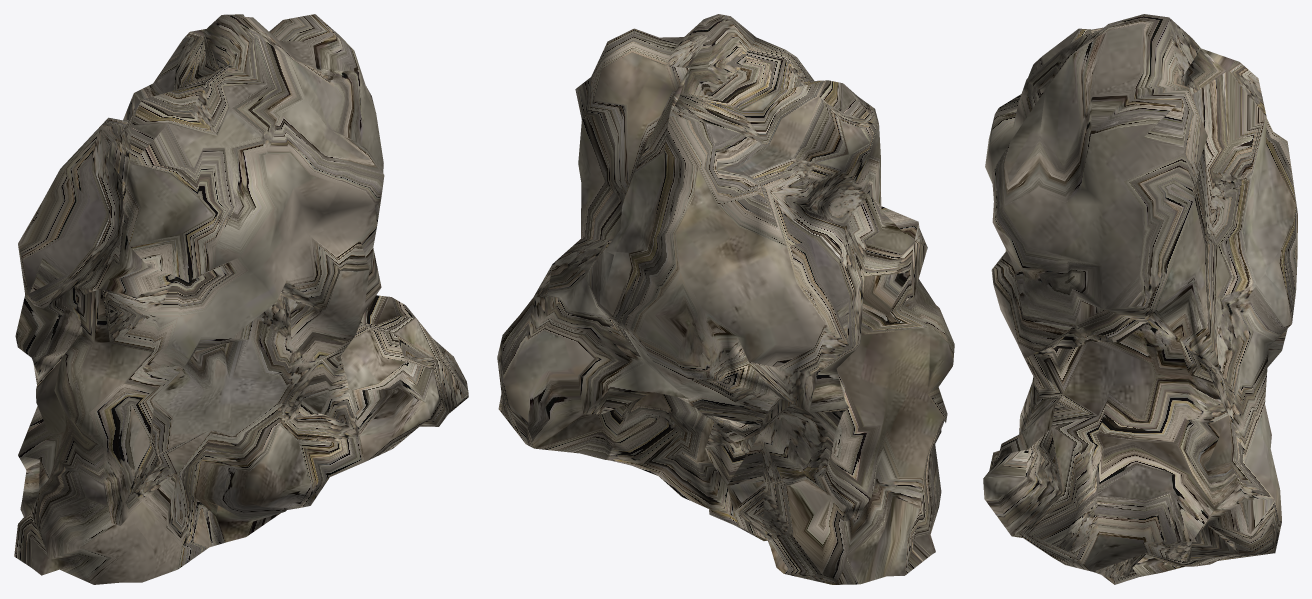
The model's file is massive-coral-lod.glb.
3 views of the same model, side by side, from view 1: azimuth 30°, elevation 25°; view 2: azimuth 150°, elevation 25°; view 3: azimuth 270°, elevation 25° (orthographic). The views are drawn at different scales.
Bounding box in the file's own units: 1.54 × 1.81 × 0.9206.
1 material, 1 textured.
